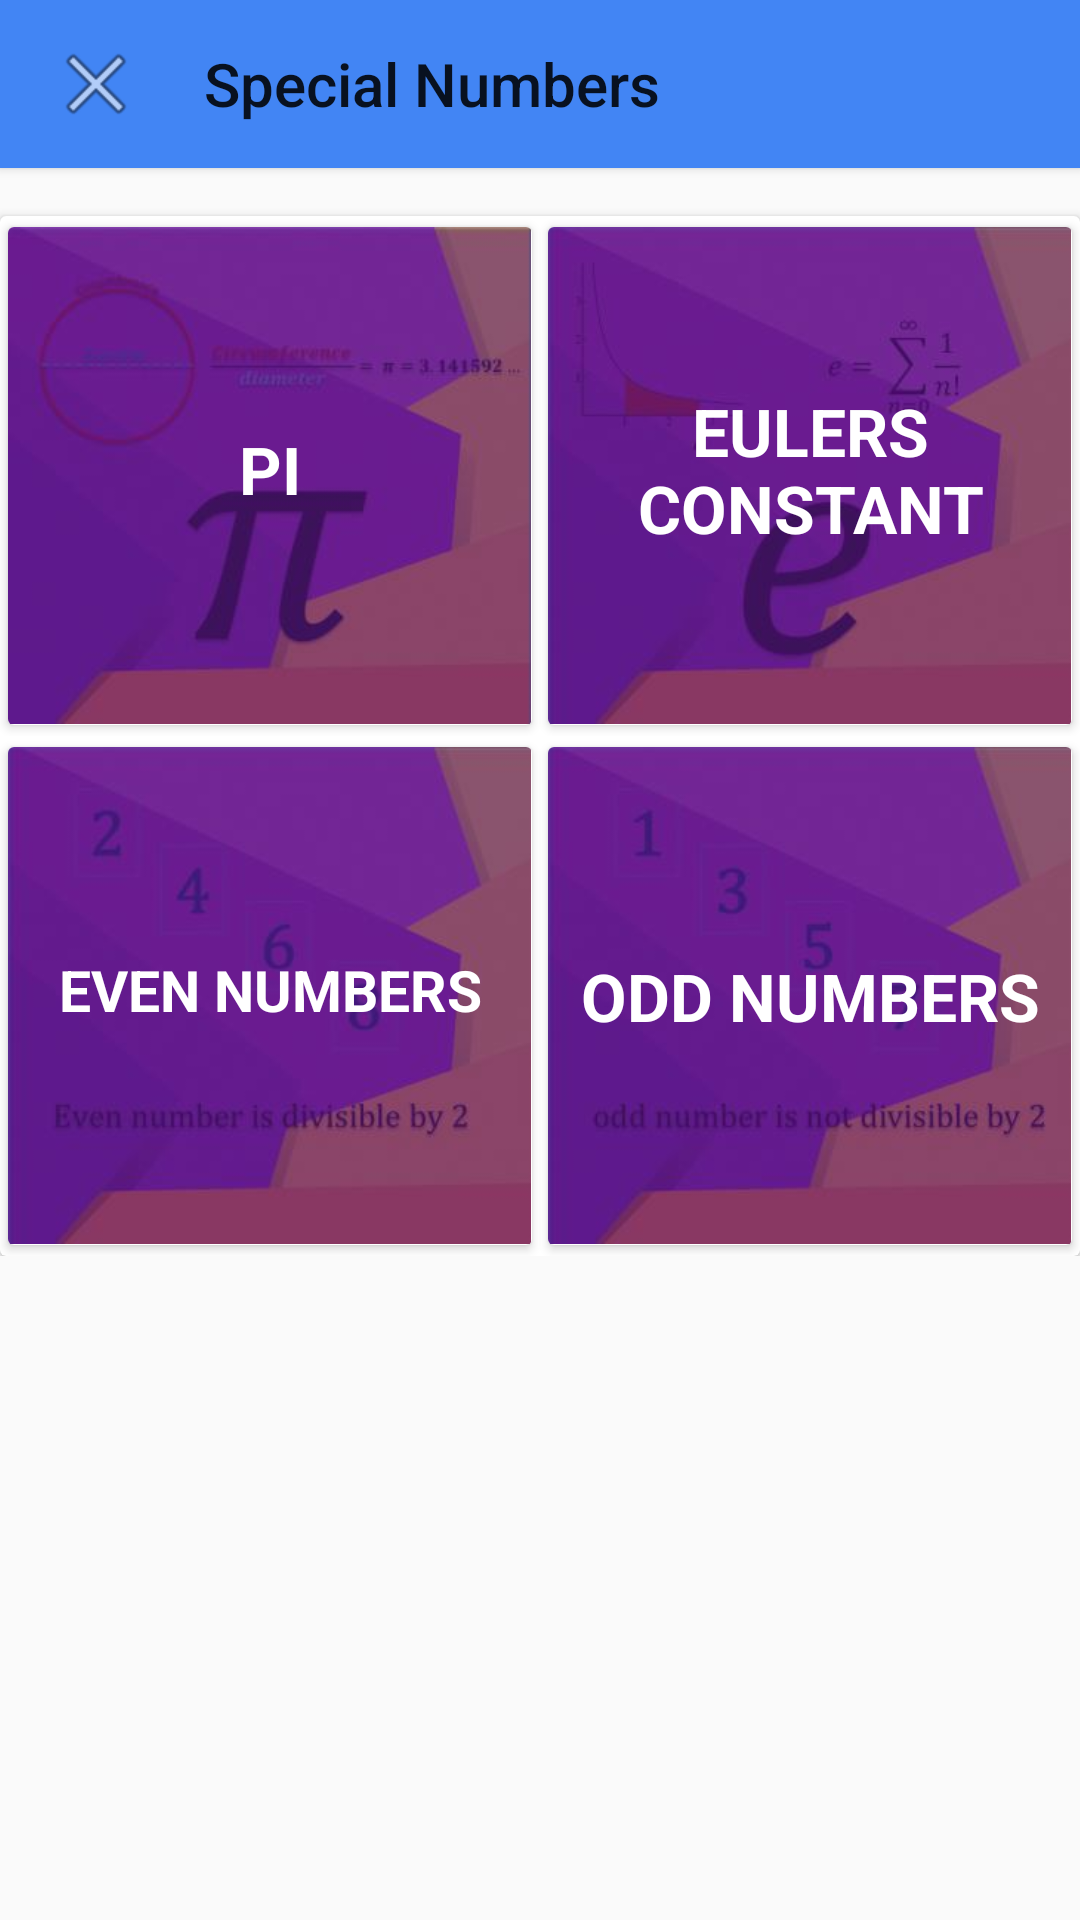

Screen size 1080*1920. Icon name, then its center in pixels as point (x, y):
close clear cancel: point (96, 84)
